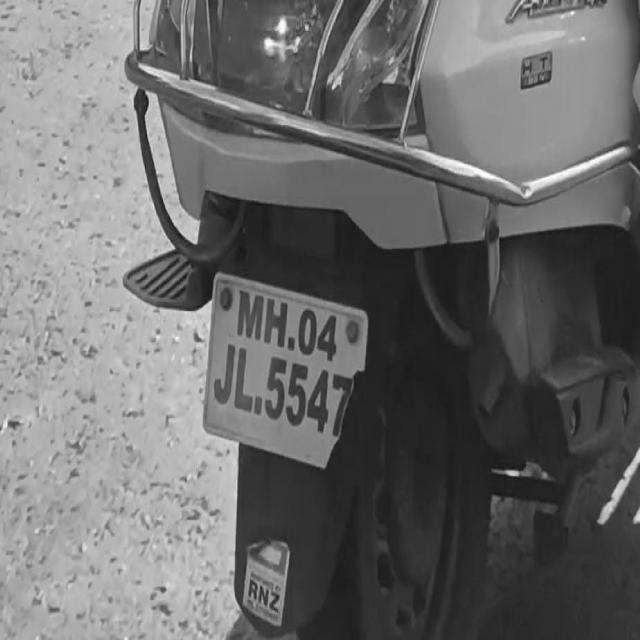license-plate: (202, 272, 374, 472)
